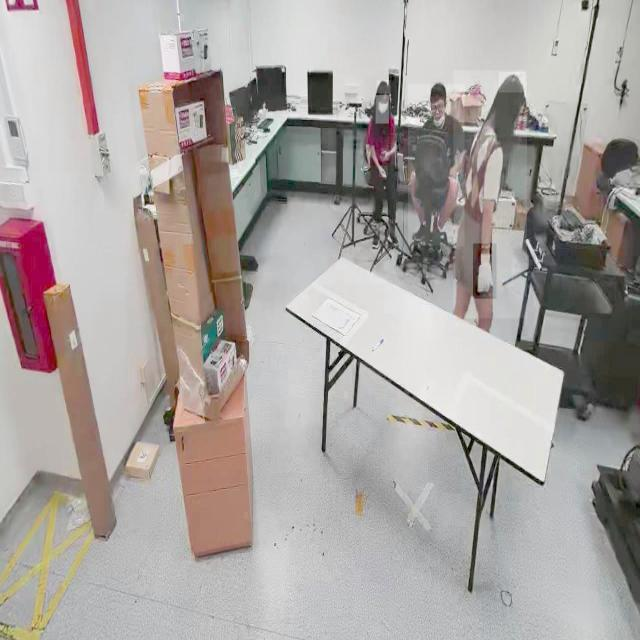face_mask: (375, 95, 389, 124)
hand_glove: (472, 243, 497, 300)
hand_noglove: (380, 148, 390, 162), (378, 165, 388, 178)
head_nohelmet: (498, 72, 526, 93), (430, 82, 448, 98), (376, 80, 390, 94)
person: (453, 70, 527, 319), (408, 84, 464, 246), (362, 78, 398, 240)
shoes: (411, 214, 433, 247)
